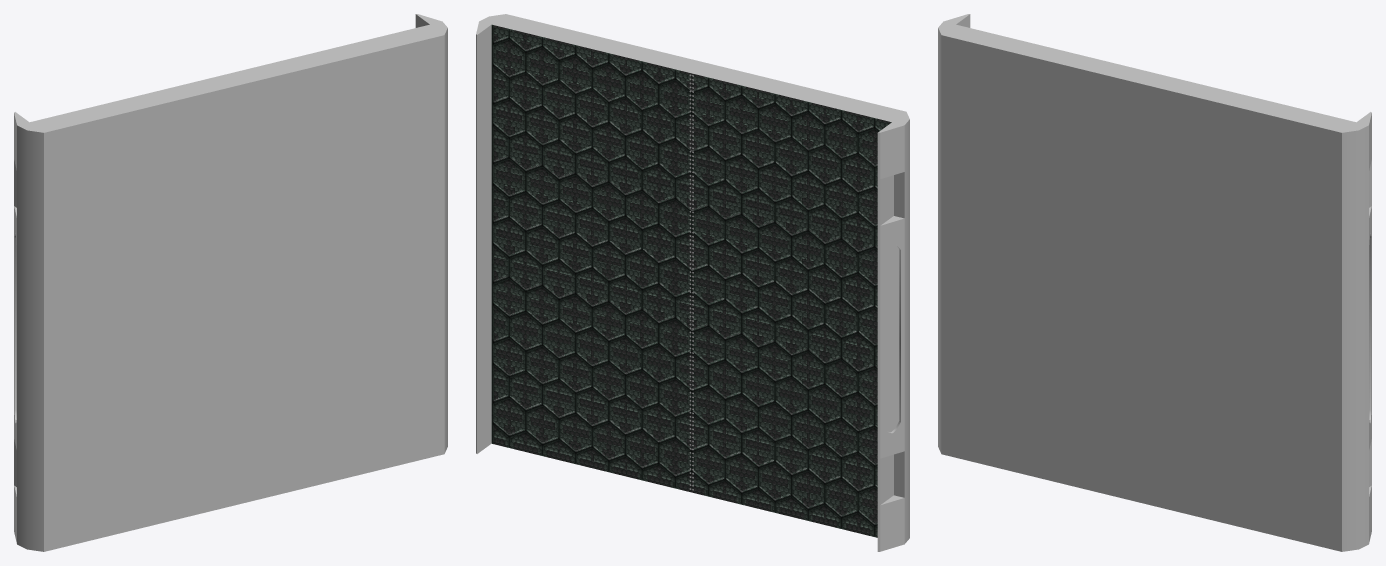
File: highway_straight.fbx
The picture shows the model from 3 angles, left to right: view 1: azimuth 30°, elevation 25°; view 2: azimuth 150°, elevation 25°; view 3: azimuth 330°, elevation 25°; orthographic projection.
Parts seen in each view (by area): view 1: highway_straight; view 2: highway_straight, light_010; view 3: highway_straight.
Boxes of the visible parts, box(x1,y1,x2,y2) form: highway_straight: box(14, 14, 447, 551); highway_straight: box(476, 14, 909, 551); light_010: box(689, 74, 693, 490); highway_straight: box(938, 14, 1371, 551).
Size of the model in its own units: 8.5 by 8 by 1.
